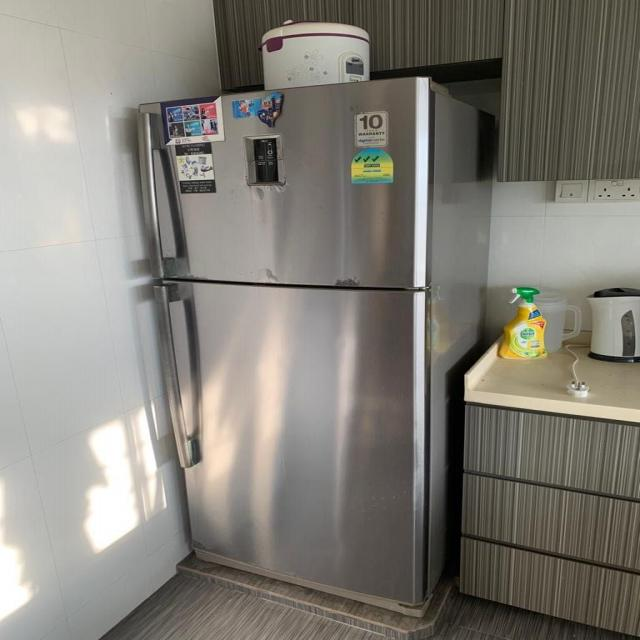refrigerator: (133, 74, 437, 614)
